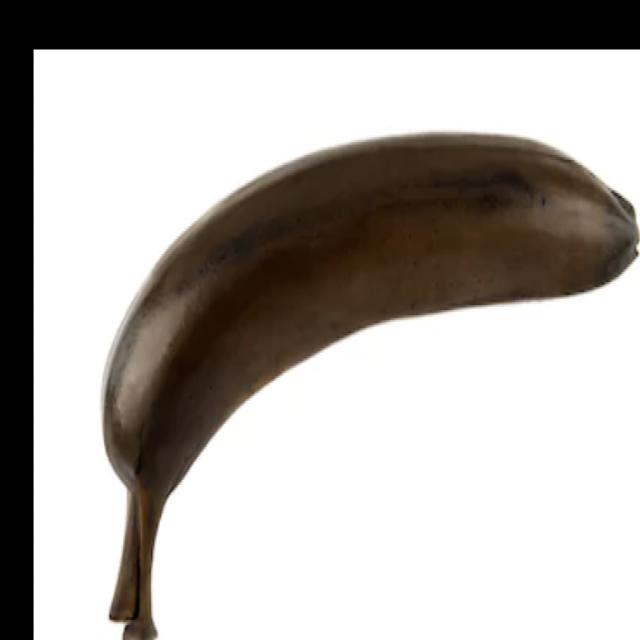Rotten: (58, 93, 640, 640)
